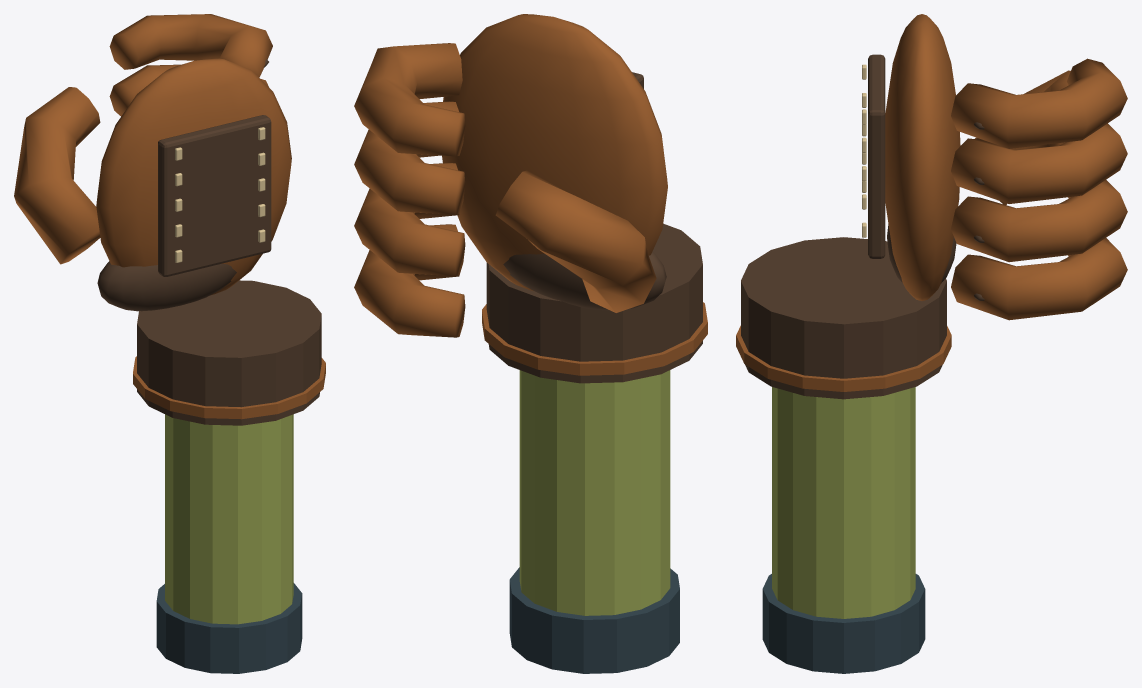
Rendered from GloveRight.fbx.
The picture shows the model from 3 angles, left to right: view 1: azimuth 30°, elevation 25°; view 2: azimuth 150°, elevation 25°; view 3: azimuth 270°, elevation 25°; orthographic projection. The views are drawn at different scales.
Parts seen in each view (by area): view 1: GloveRight_Mesh; view 2: GloveRight_Mesh; view 3: GloveRight_Mesh.
Part boxes in pixels (x1=…): GloveRight_Mesh: x1=14, y1=14, x2=325, y2=673; GloveRight_Mesh: x1=354, y1=14, x2=707, y2=673; GloveRight_Mesh: x1=736, y1=14, x2=1127, y2=673.
Size of the model in its own units: 0.2011 by 0.435 by 0.2507.
